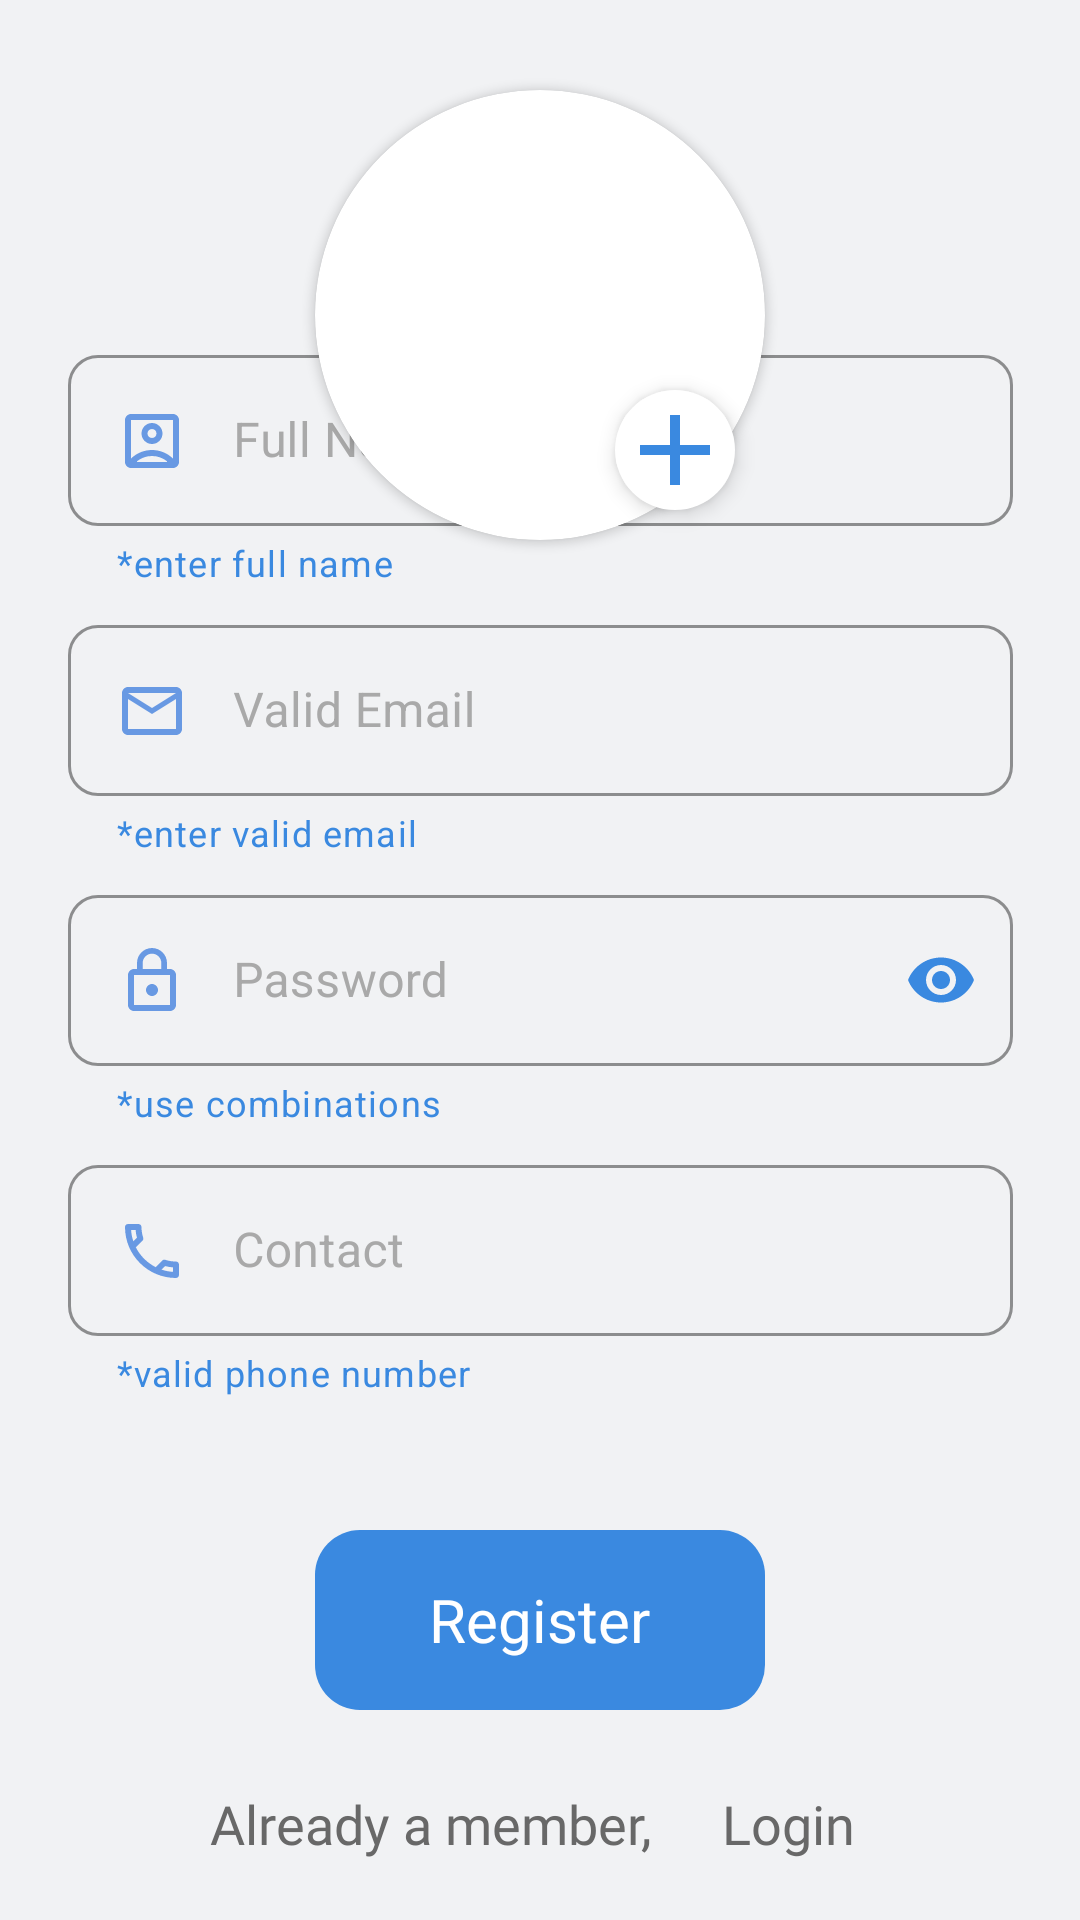

Icons on this 1080px×1920px Android screen, each with the point to tap as point (x, y):
add: point (666, 451)
